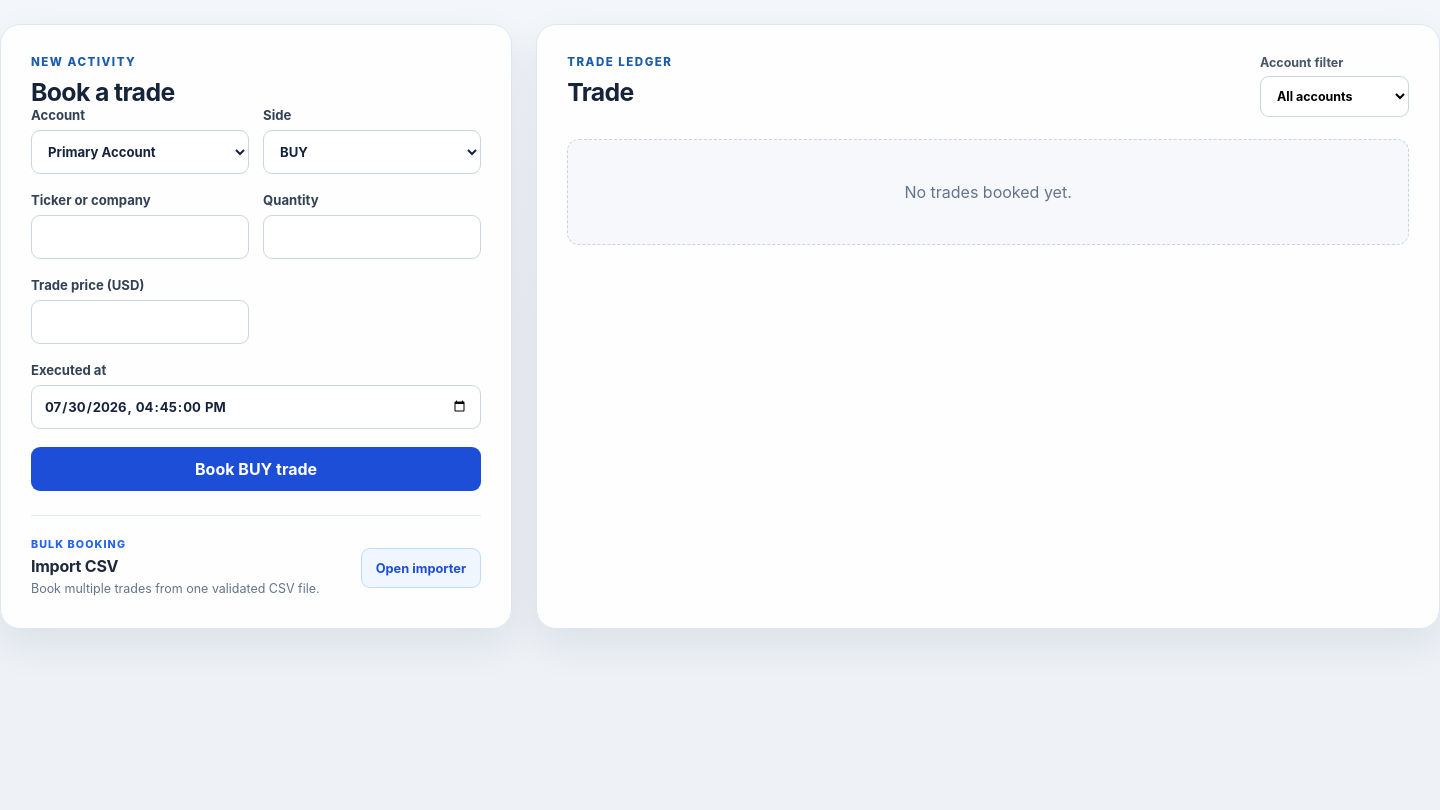
Test: multi-account activity › shows trade API field errors
Expected: the text "No trades booked yet." is shown, [567, 139, 1409, 245]
Step 1. Type "aapl" into the dropdown labelled "Ticker or company" → (140, 237), box [31, 215, 249, 259]
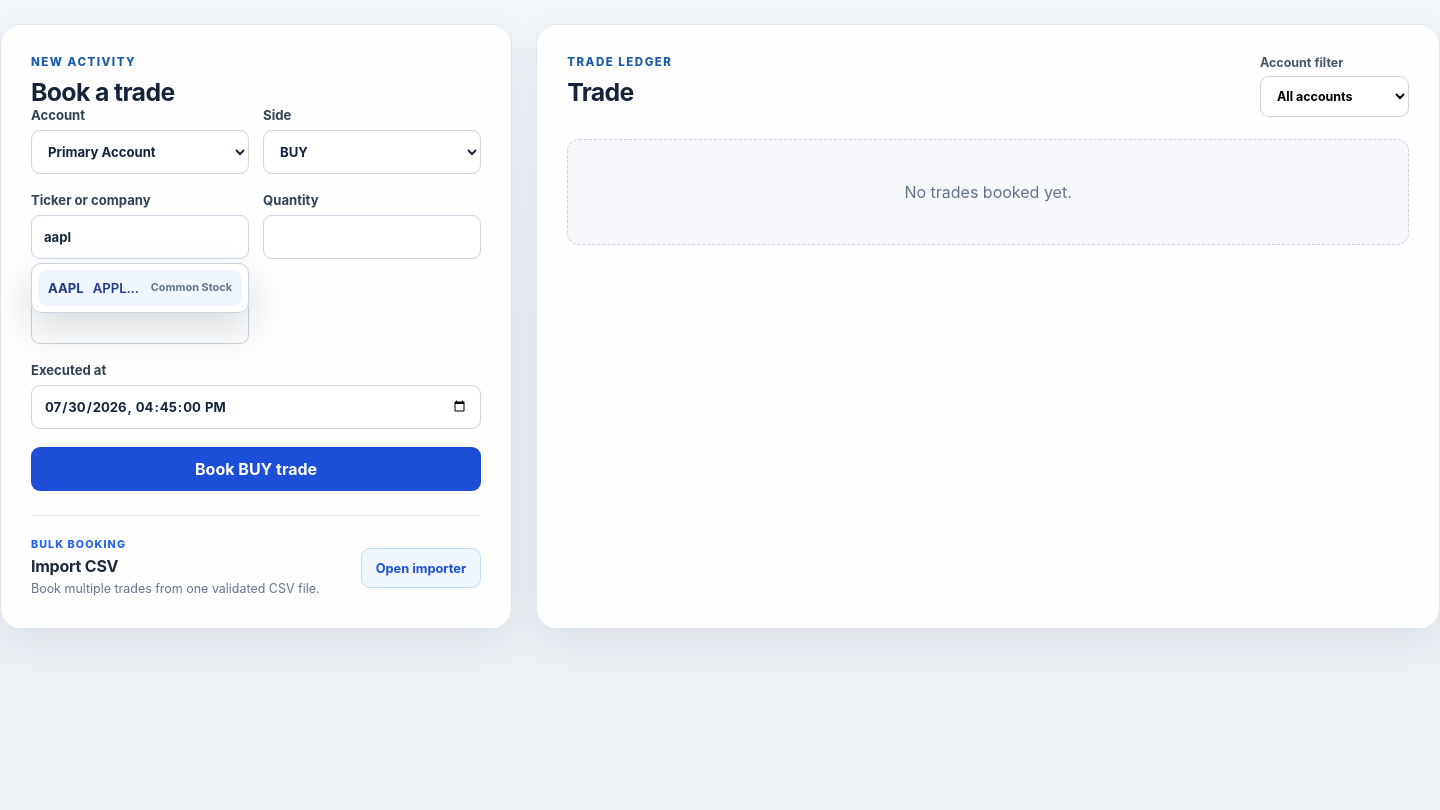
Step 2. Click the option "AAPL APPLE INC Common Stock" → (140, 288), box [38, 270, 242, 306]
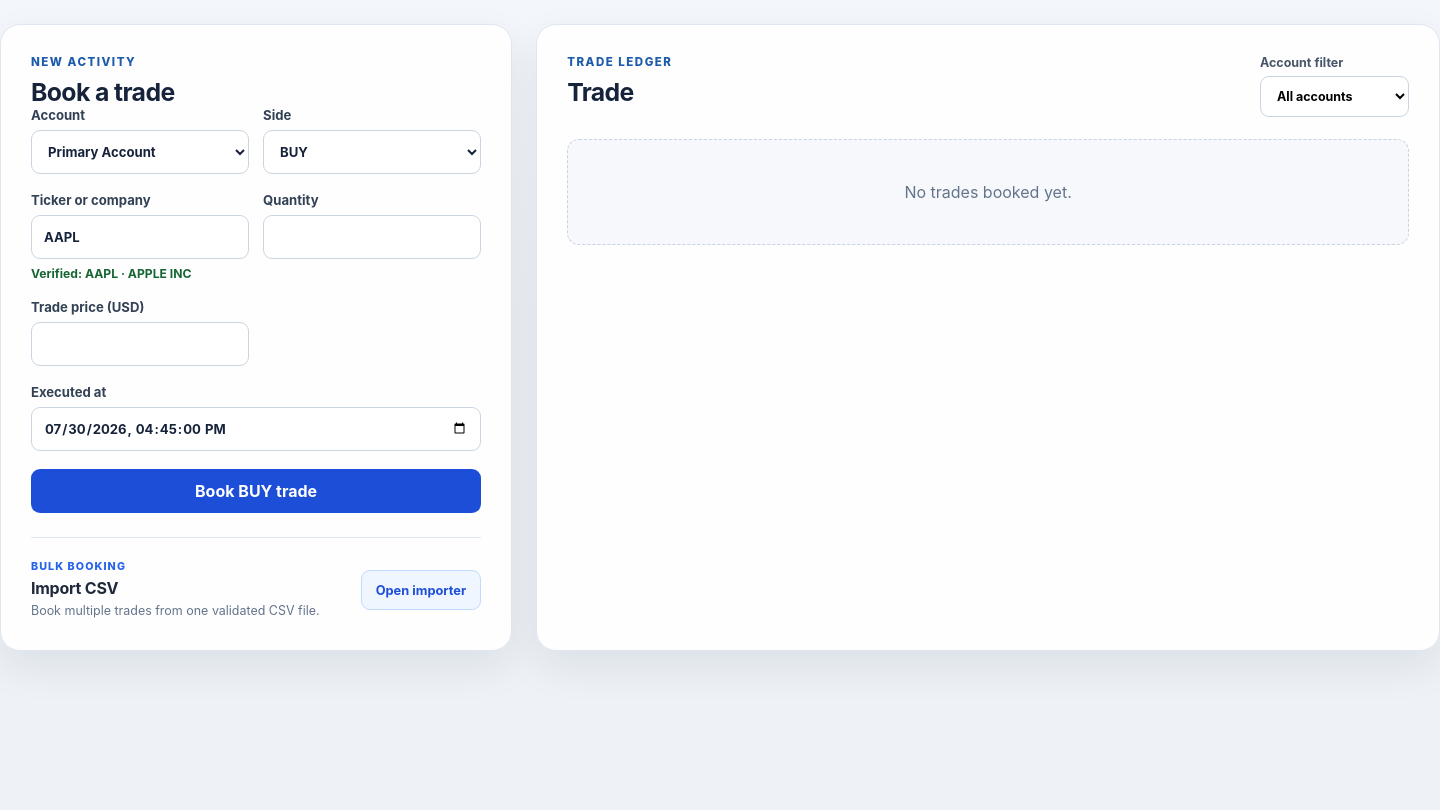
Step 3. Type "10.5" into the number field labelled "Quantity" → (372, 237), box [263, 215, 481, 259]
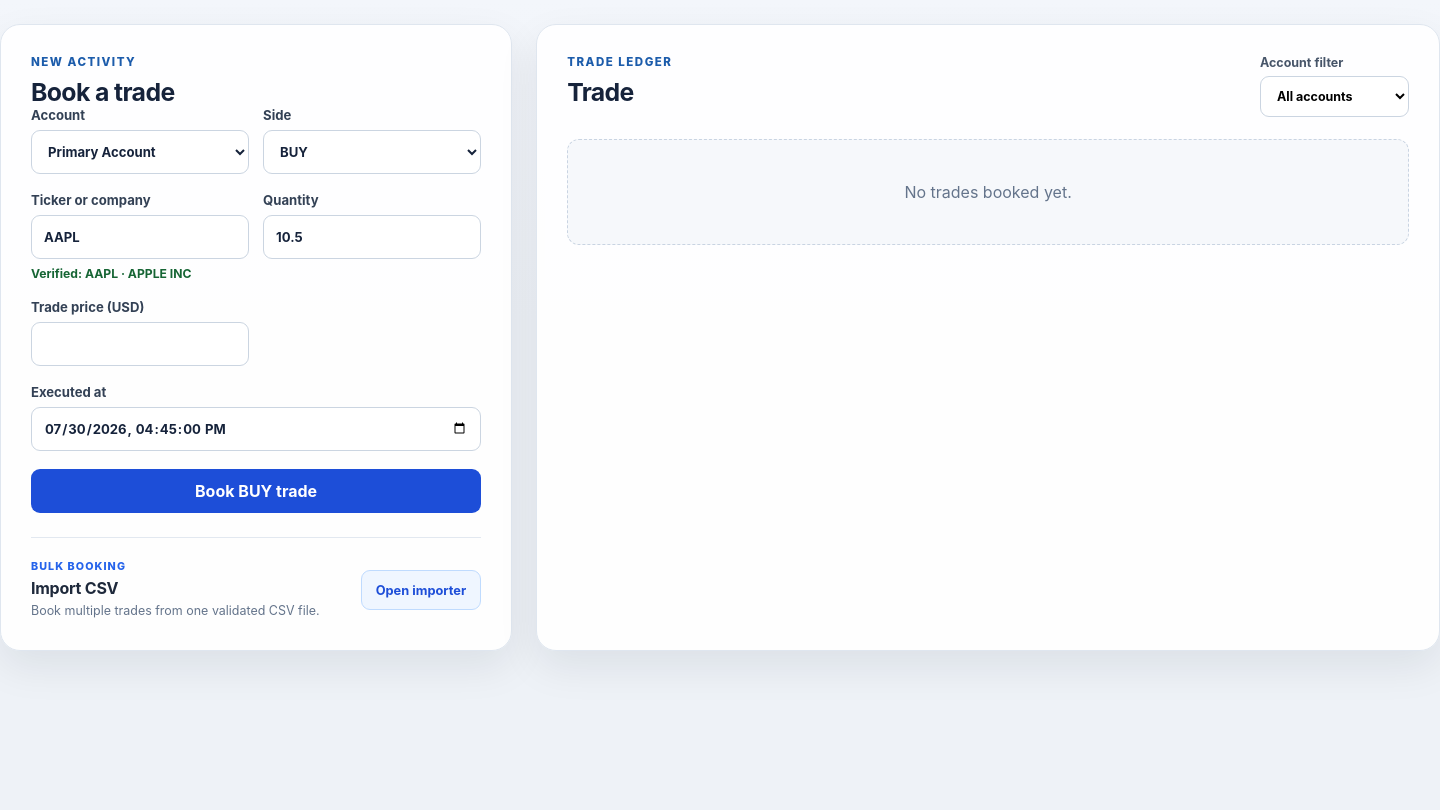
Step 4. Type "195.25" into the number field labelled "Trade price (USD)" → (140, 344), box [31, 322, 249, 366]
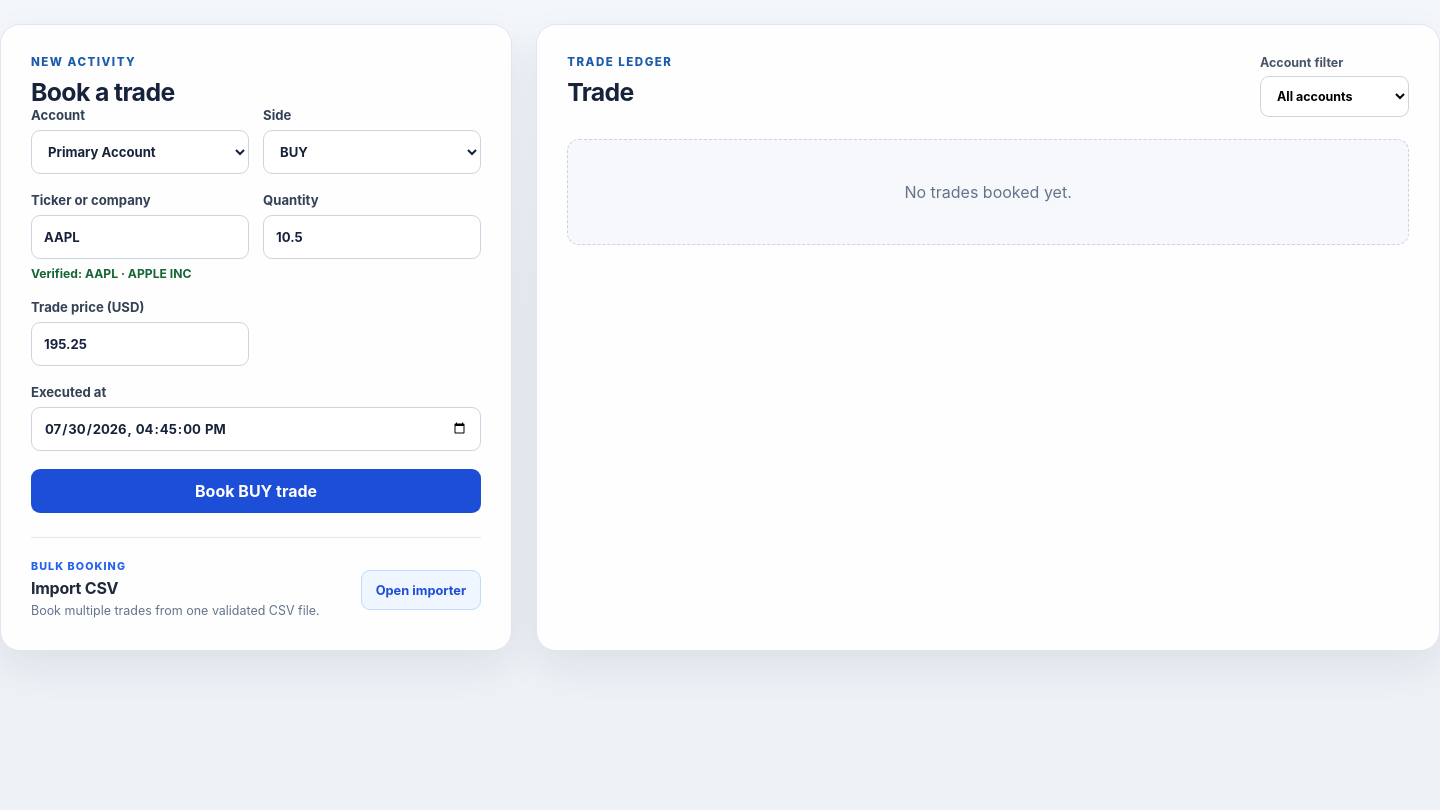
Step 5. Replace the text in the field labelled "Executed at" with "2026-07-28T14:30" → (256, 429), box [31, 407, 481, 451]
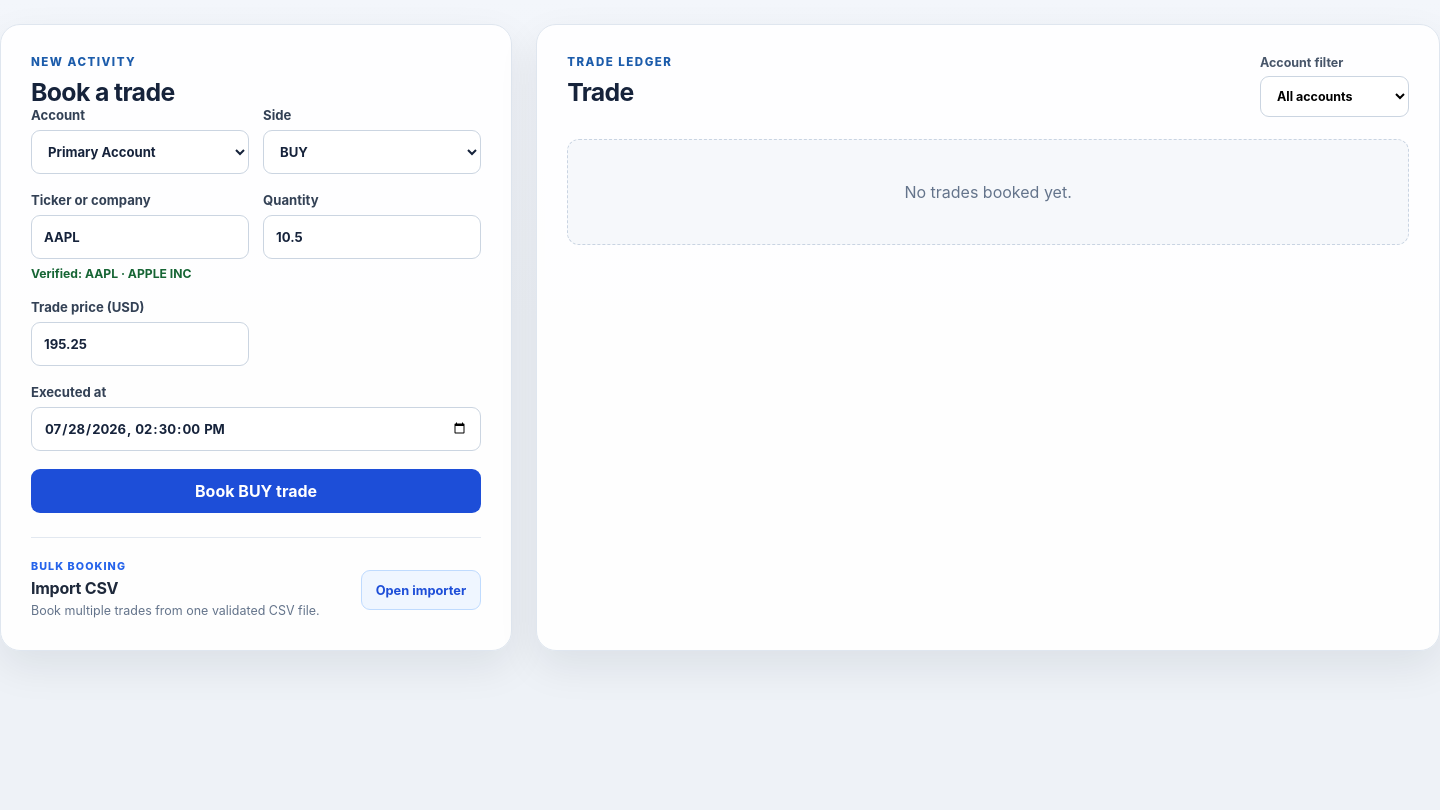
Step 6. Click the button "Book BUY trade" → (256, 491), box [31, 469, 481, 513]
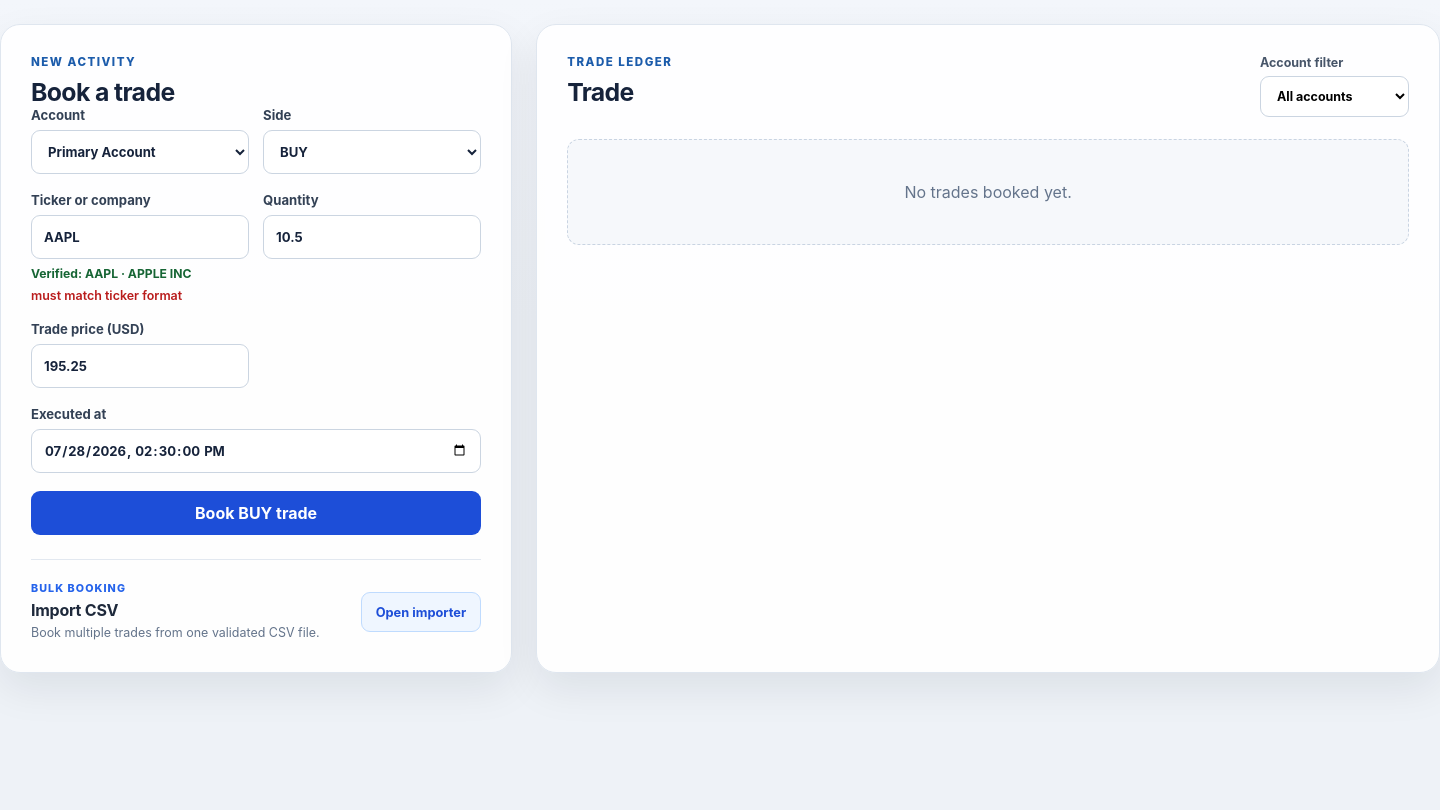
Expected: the text "must match ticker format" is shown, [31, 288, 182, 303]
